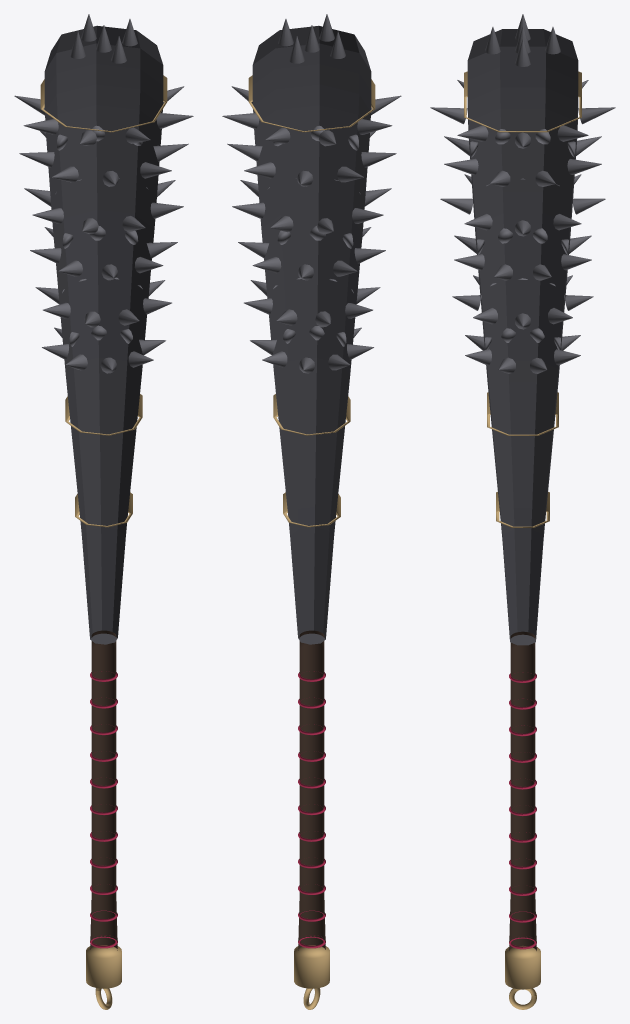
File: kanabo_takeda.glb
3 views of the same model, side by side, from view 1: azimuth 30°, elevation 25°; view 2: azimuth 150°, elevation 25°; view 3: azimuth 270°, elevation 25° (orthographic).
Parts seen in each view (by area): view 1: head, studs, handle, bands, cord_wraps; view 2: head, studs, handle, bands, cord_wraps; view 3: head, studs, handle, bands, cord_wraps.
Part boxes in pixels (left/top/right/bottom): head: left=44, top=25, right=163, bottom=644; studs: left=14, top=14, right=193, bottom=373; handle: left=90, top=630, right=117, bottom=950; bands: left=40, top=75, right=167, bottom=1009; cord_wraps: left=90, top=671, right=117, bottom=948; head: left=252, top=25, right=371, bottom=644; studs: left=222, top=14, right=401, bottom=373; handle: left=298, top=630, right=325, bottom=950; bands: left=248, top=75, right=375, bottom=1009; cord_wraps: left=298, top=671, right=325, bottom=948; head: left=467, top=29, right=578, bottom=645; studs: left=430, top=14, right=615, bottom=373; handle: left=509, top=631, right=536, bottom=950; bands: left=464, top=71, right=581, bottom=1009; cord_wraps: left=509, top=672, right=536, bottom=949.
Size of the model in its own units: 0.2775 by 1.62 by 0.2775.
